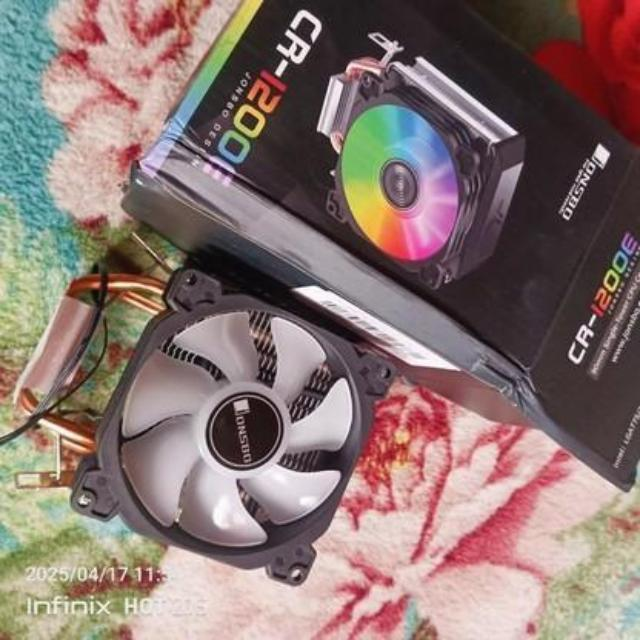CPU_Fan: (30, 267, 392, 595)
